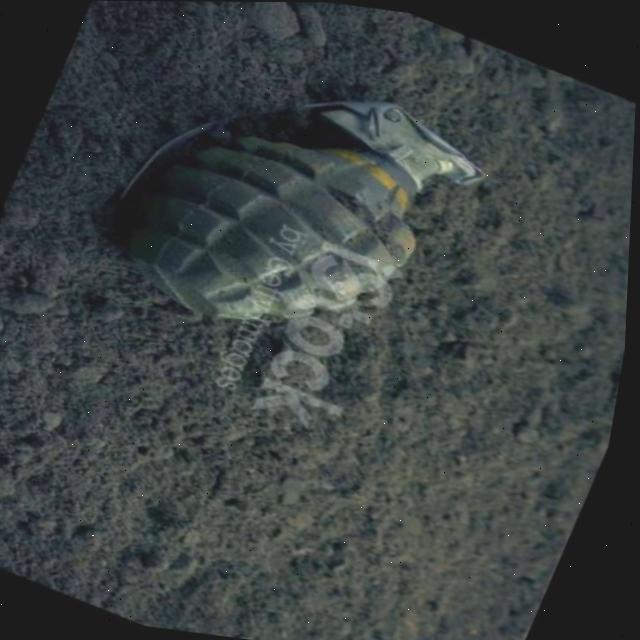grenade: (69, 8, 512, 394)
